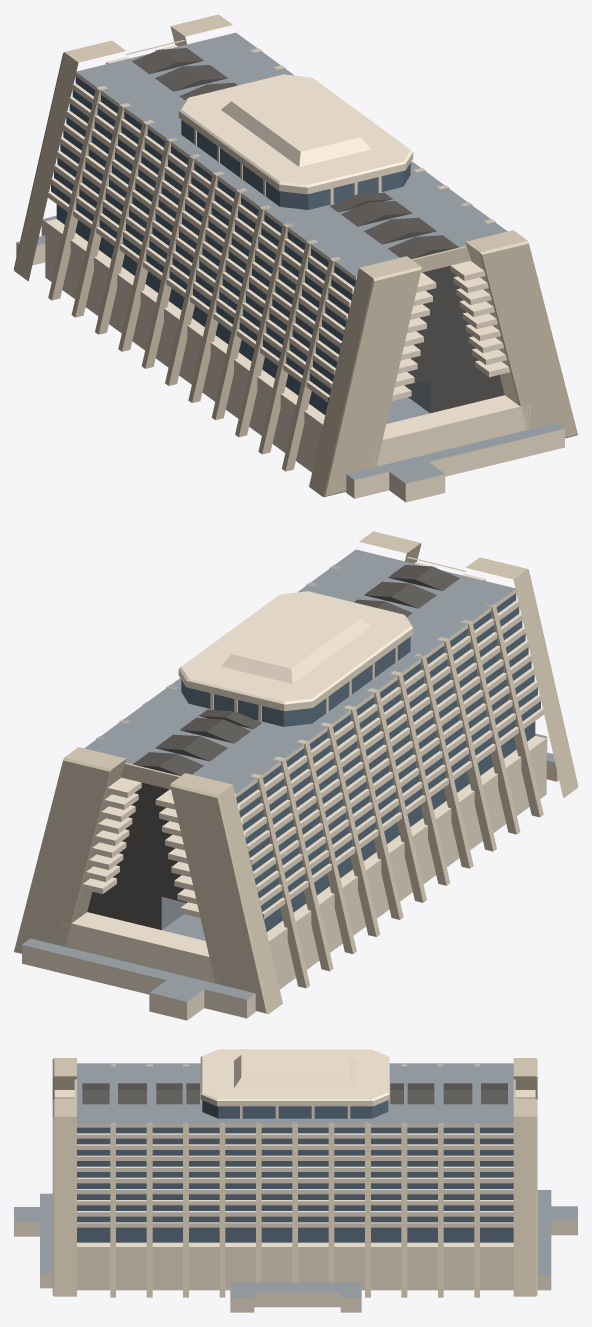
File: wdw-contemporary-resort.glb
The picture shows the model from 3 angles, top to bottom: view 1: azimuth 30°, elevation 25°; view 2: azimuth 150°, elevation 25°; view 3: azimuth 270°, elevation 25°; orthographic projection. The views are drawn at different scales.
Visible parts, largest first — view 1: Disney's Contemporary Resort; view 2: Disney's Contemporary Resort; view 3: Disney's Contemporary Resort.
Part boxes in pixels (x1,y1,x2,y2): Disney's Contemporary Resort: (14, 14, 577, 502); Disney's Contemporary Resort: (14, 531, 577, 1020); Disney's Contemporary Resort: (14, 1049, 577, 1312).
Size of the model in its own units: 74.55 by 56 by 157.
